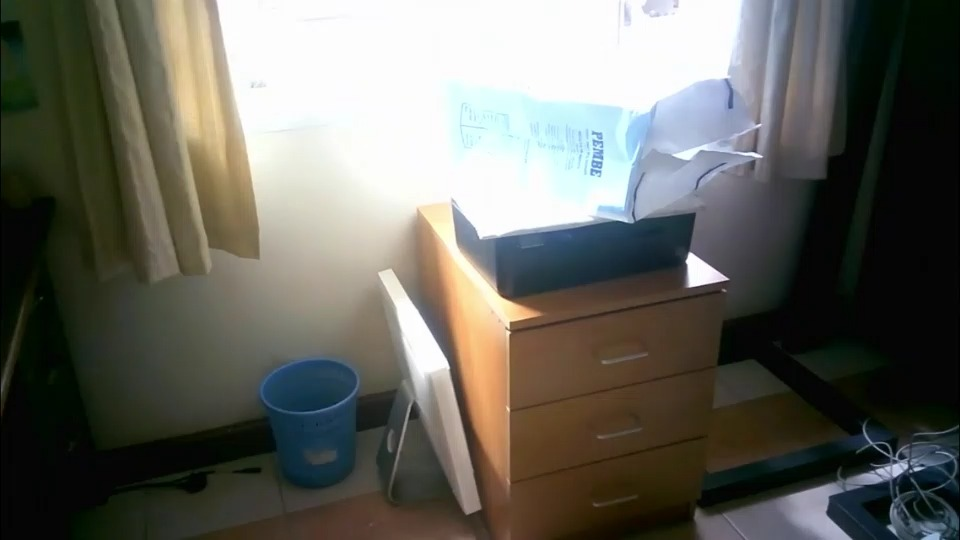wheat_flour_blue_label: (460, 60, 756, 205)
